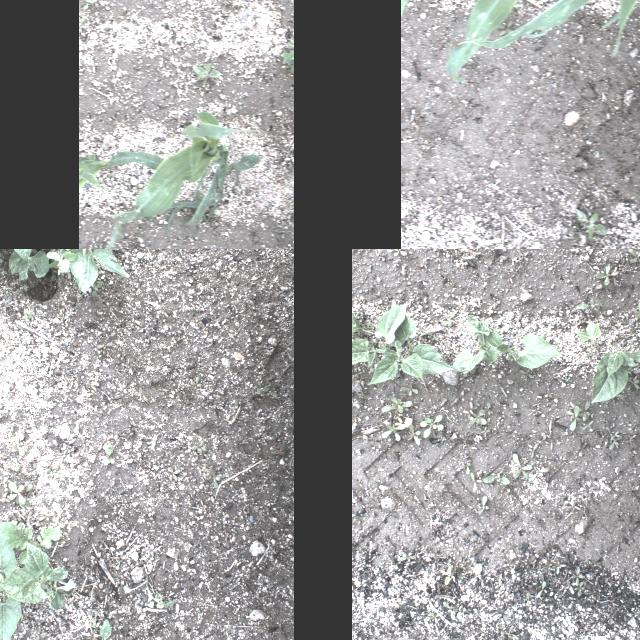crop: (99, 111, 261, 249), (447, 0, 609, 81), (473, 0, 640, 54), (0, 519, 72, 640), (366, 299, 456, 385), (0, 249, 138, 300), (451, 312, 562, 374), (78, 150, 172, 204), (352, 302, 406, 366), (592, 349, 638, 401), (400, 0, 464, 18), (575, 321, 601, 357)
weed: (40, 249, 104, 273), (573, 208, 607, 238), (380, 396, 412, 424), (85, 615, 117, 640), (191, 63, 221, 89), (6, 480, 34, 506), (419, 414, 443, 438), (512, 453, 532, 481), (380, 422, 406, 442), (574, 296, 602, 314), (596, 265, 620, 285), (528, 463, 550, 482), (11, 434, 29, 456), (465, 409, 487, 427), (352, 308, 366, 336), (207, 467, 226, 487), (439, 563, 455, 585), (474, 494, 490, 516), (482, 472, 510, 484), (404, 424, 420, 444), (154, 594, 176, 608), (100, 442, 114, 463), (570, 565, 584, 585), (578, 400, 592, 420), (281, 51, 294, 72), (190, 438, 207, 454), (569, 404, 579, 431), (470, 471, 482, 493), (565, 578, 581, 594), (624, 374, 640, 390), (440, 309, 456, 325), (425, 610, 443, 624), (35, 510, 55, 522), (40, 460, 60, 472), (90, 280, 104, 296), (554, 558, 568, 574), (401, 382, 417, 396), (608, 434, 622, 450), (394, 551, 416, 561), (442, 601, 454, 619), (535, 580, 547, 598), (526, 442, 538, 460), (190, 374, 202, 390), (522, 590, 534, 606), (518, 366, 534, 378), (628, 249, 640, 265), (393, 416, 412, 426), (566, 407, 584, 417), (631, 300, 640, 319), (497, 21, 511, 33), (256, 383, 270, 395), (34, 628, 48, 640), (582, 418, 594, 432), (516, 250, 530, 262), (0, 464, 20, 472), (462, 458, 472, 474), (574, 581, 584, 595), (480, 401, 490, 415), (82, 0, 97, 8), (538, 432, 546, 446), (26, 464, 36, 474), (404, 557, 416, 565), (392, 249, 405, 256), (610, 429, 620, 438), (80, 16, 86, 30), (21, 311, 31, 317), (446, 10, 454, 16), (575, 194, 581, 200)
